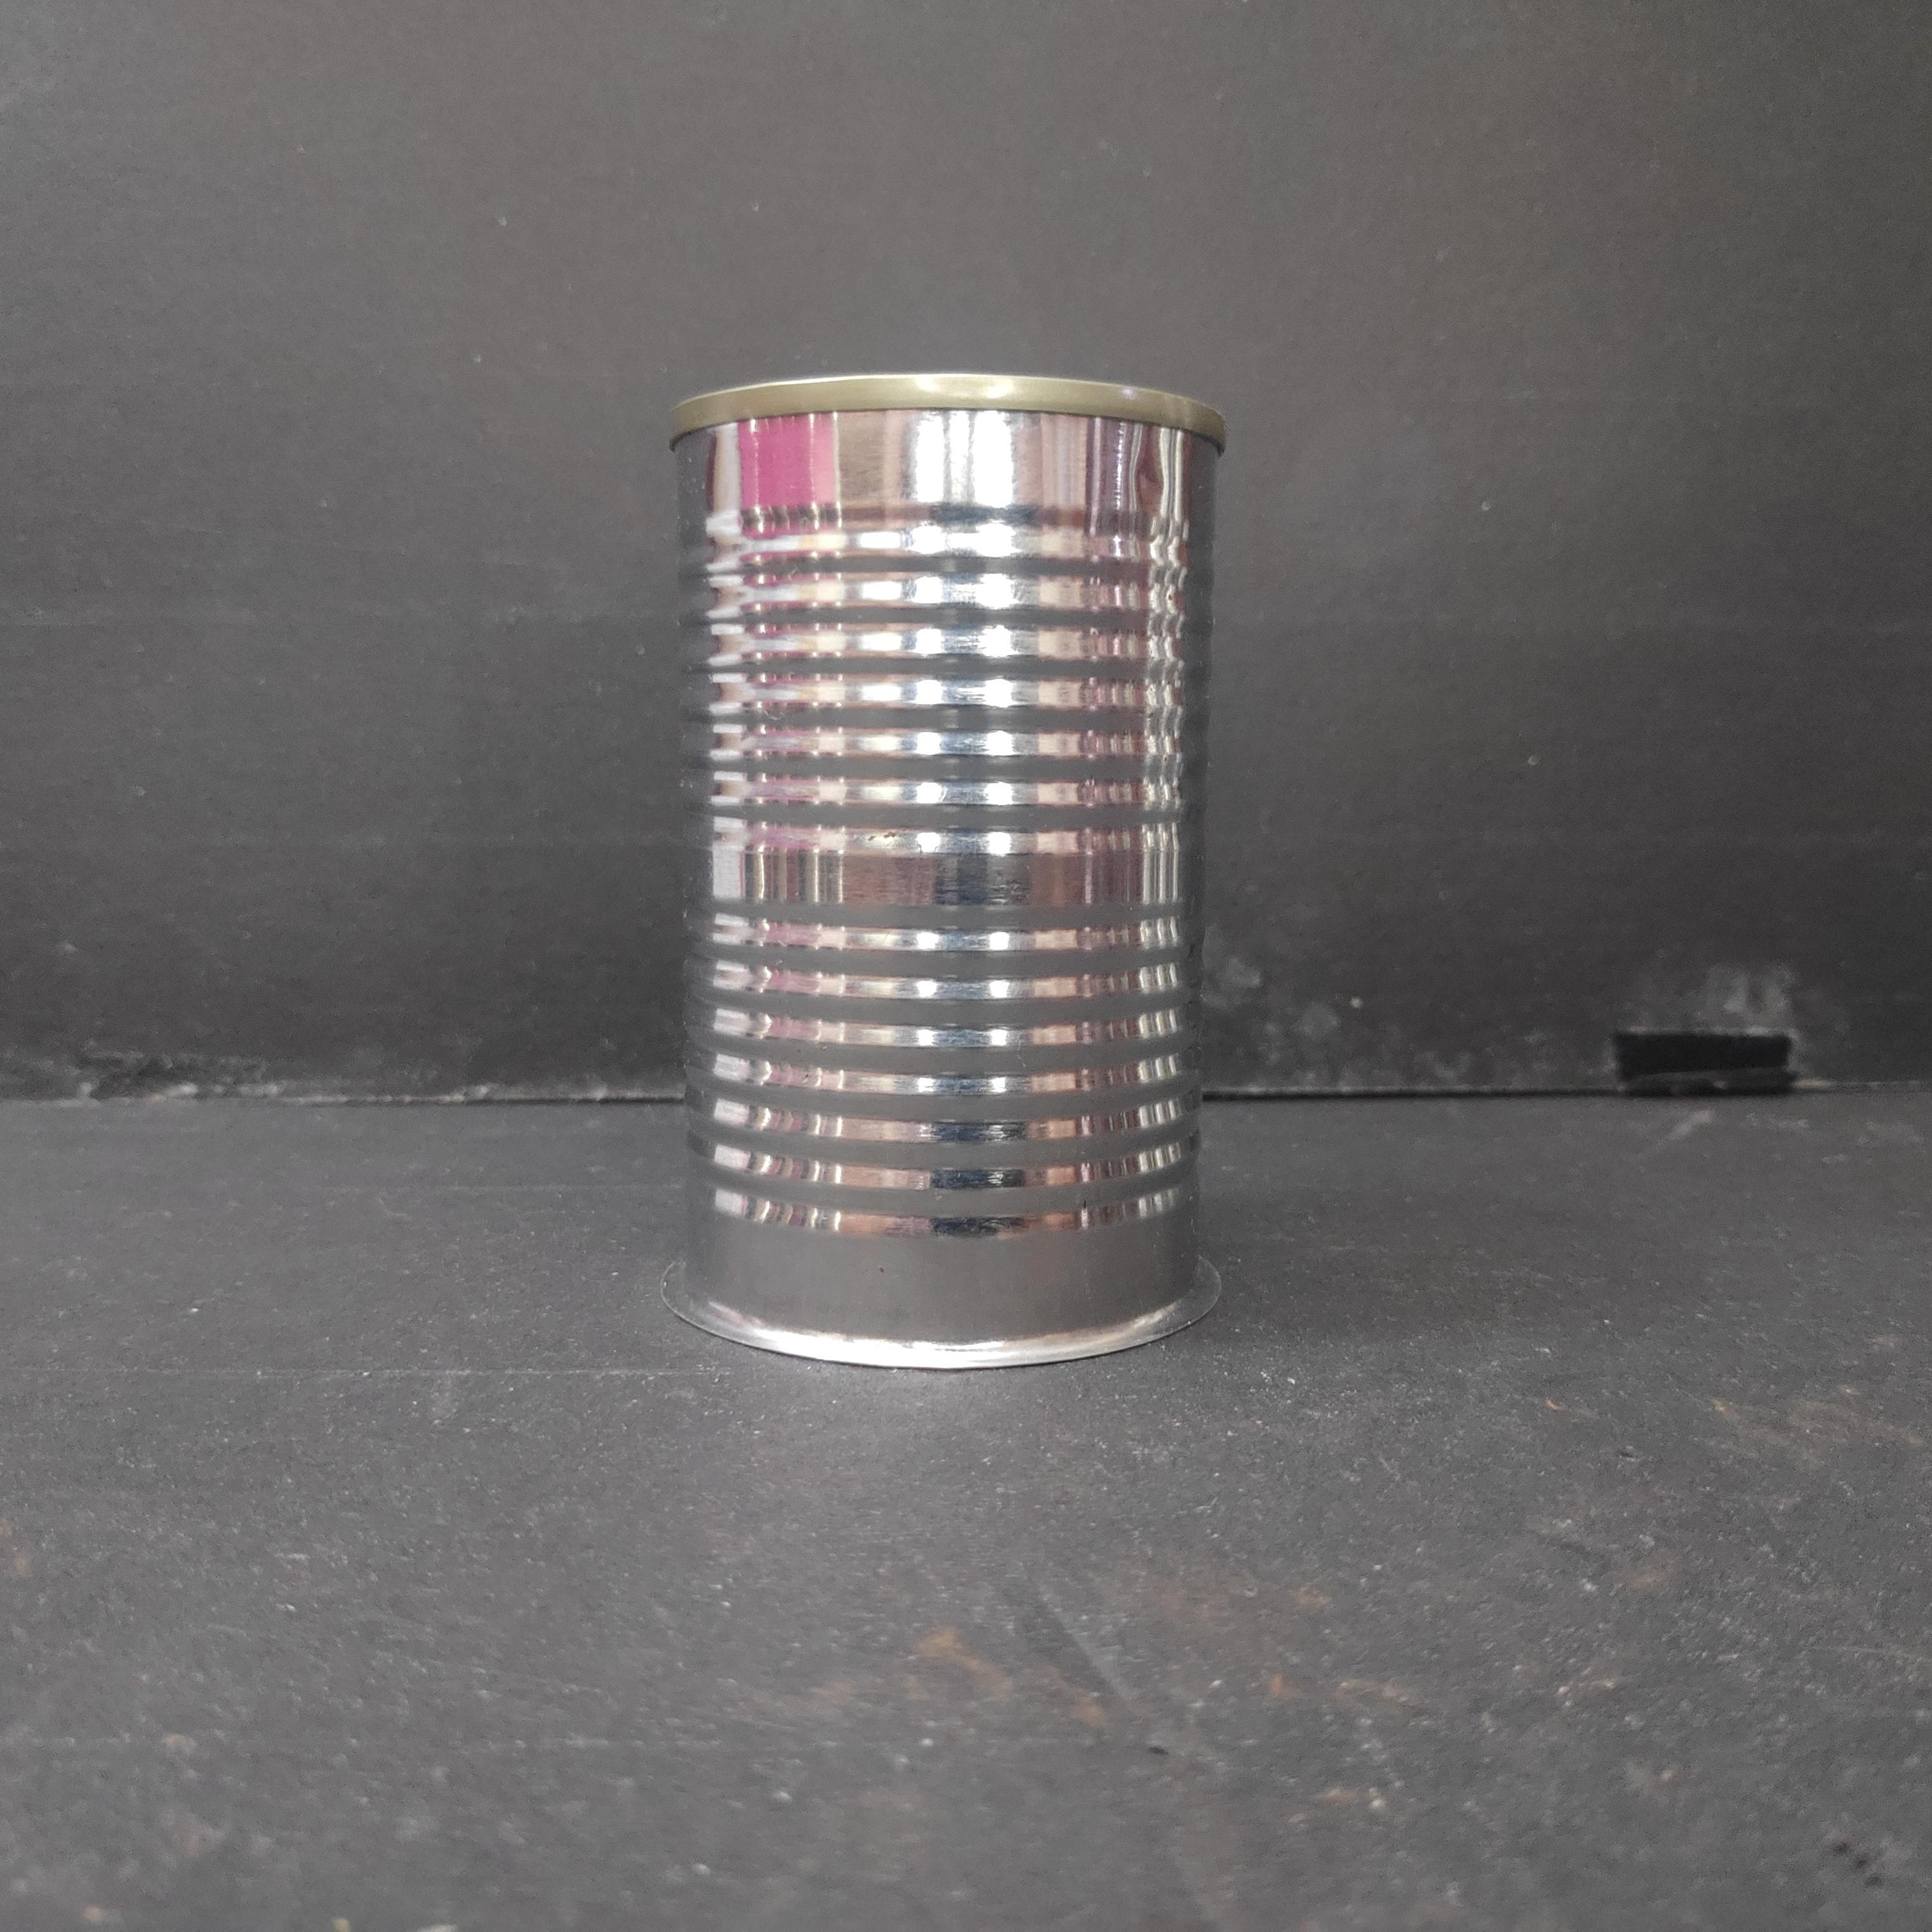No defect: (656, 361, 1237, 1375)
